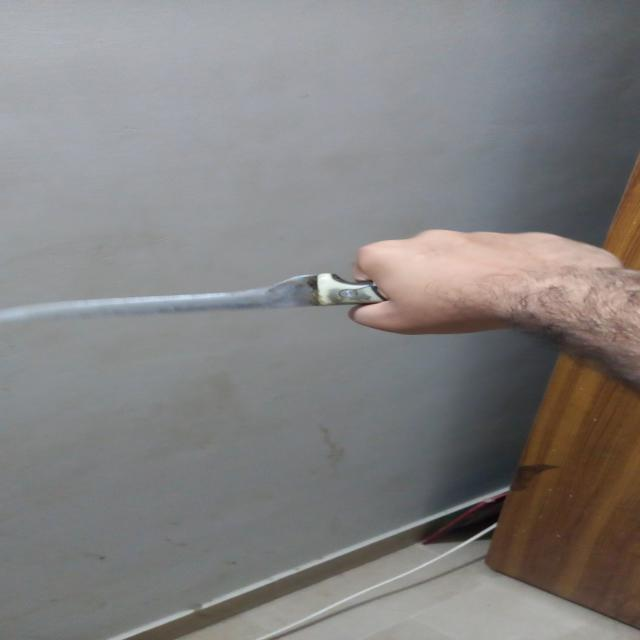knife: (0, 268, 380, 328)
